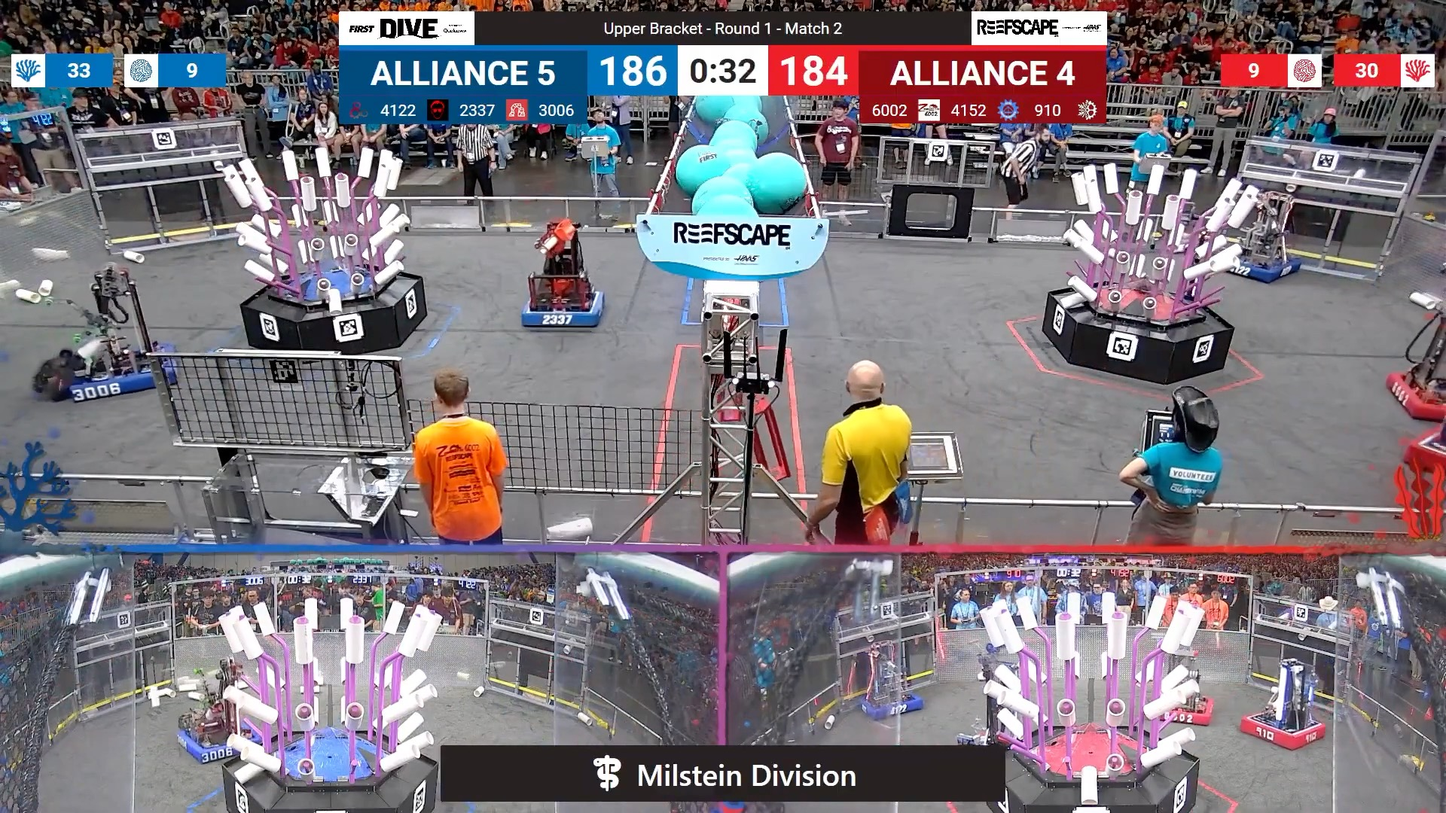bumpers: (36, 338, 183, 406), (515, 282, 611, 334), (1233, 708, 1334, 751), (1380, 364, 1445, 428), (1217, 249, 1310, 288), (170, 725, 258, 766), (852, 691, 931, 723), (1153, 691, 1220, 726)
